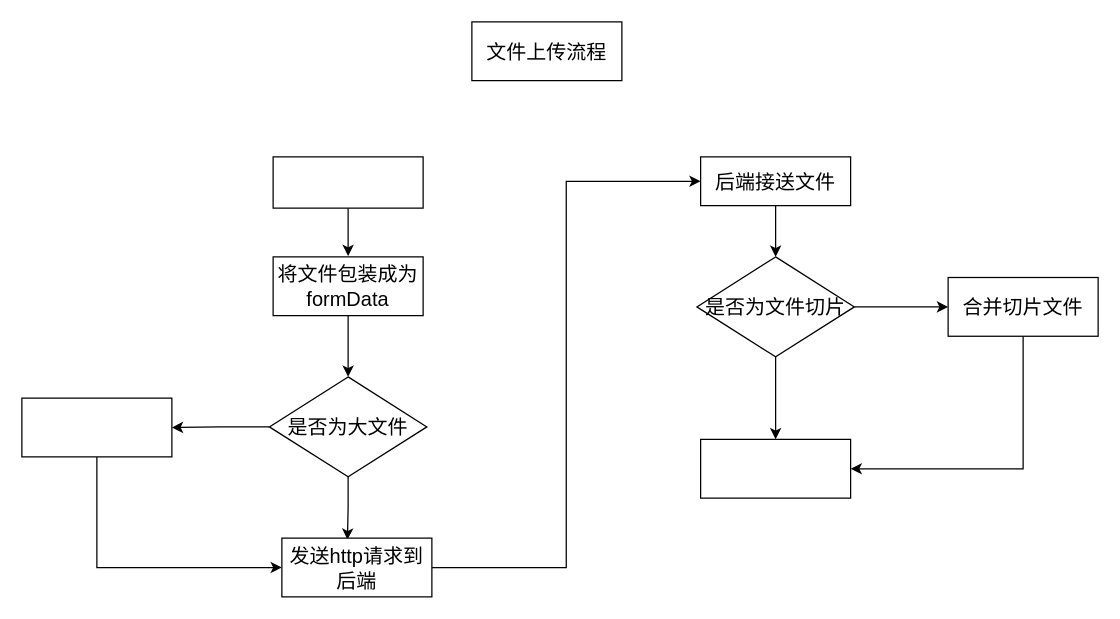
Image size: 1120x619. Some labels were removed from this diagram. Here are the shapes that lost their labels. From the top down, the box of each, then its label:
(272, 156, 423, 208): 前端获取文件
(21, 397, 172, 457): 文件切片
(699, 438, 851, 498): 后端存储文件
